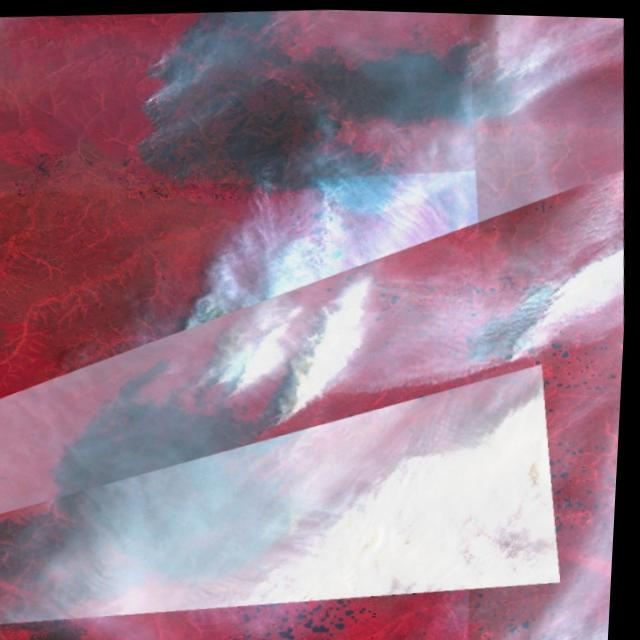fire: (184, 340, 339, 440), (445, 23, 544, 133), (118, 47, 179, 158), (504, 271, 573, 336)
